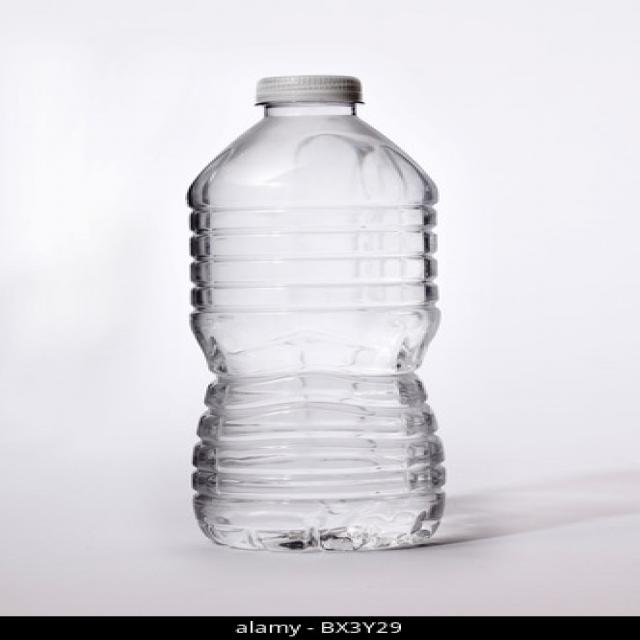Botella Plastica: (187, 77, 452, 556)
